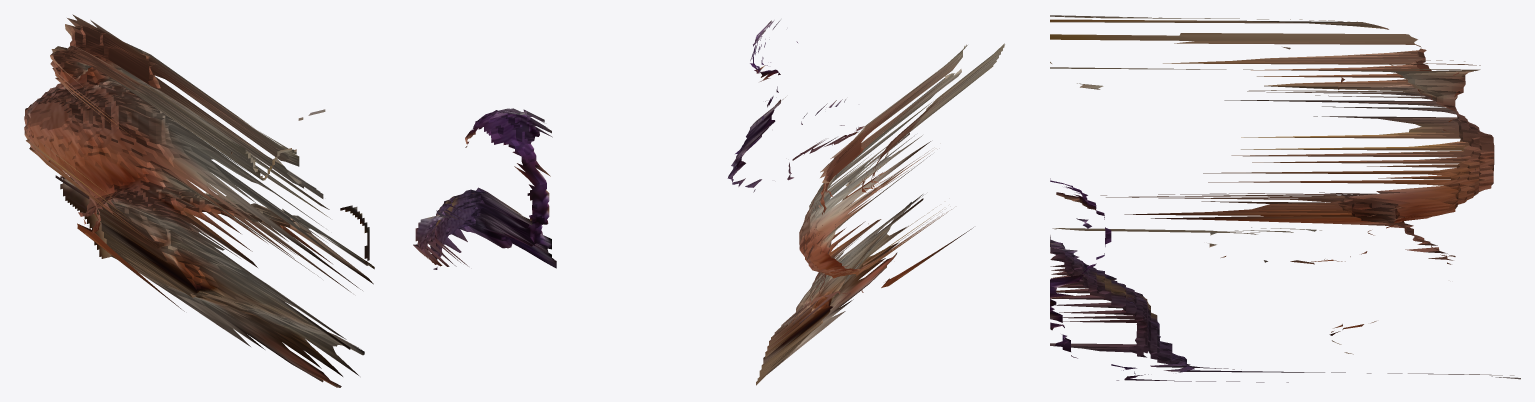
Rendered from frame_00320.glb.
3 views of the same model, side by side, from view 1: azimuth 30°, elevation 25°; view 2: azimuth 150°, elevation 25°; view 3: azimuth 270°, elevation 25° (orthographic). The views are drawn at different scales.
Visible parts, largest first — view 1: geometry_0; view 2: geometry_0; view 3: geometry_0.
Part boxes in pixels (x1,y1,x2,y2): geometry_0: (24,14,556,387); geometry_0: (727,20,1004,385); geometry_0: (1050,15,1520,382).
Bounding box in the file's own units: 0.1367 × 0.1154 × 0.16.
Materials: 1 (1 with a texture image).
